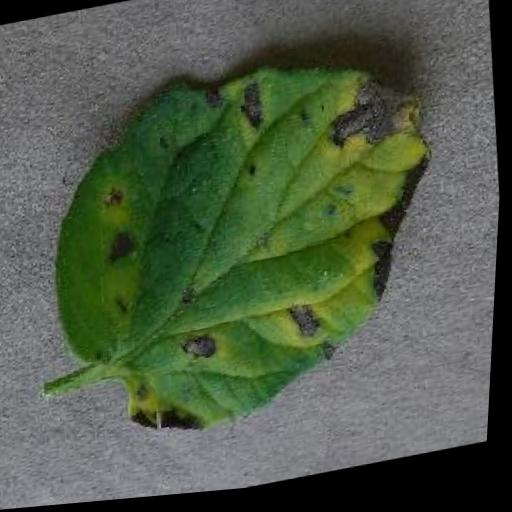Early Blight: (35, 31, 461, 462)
